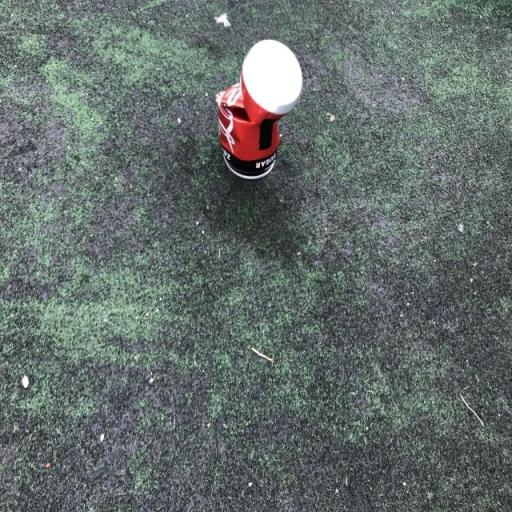metal: (205, 30, 318, 204)
